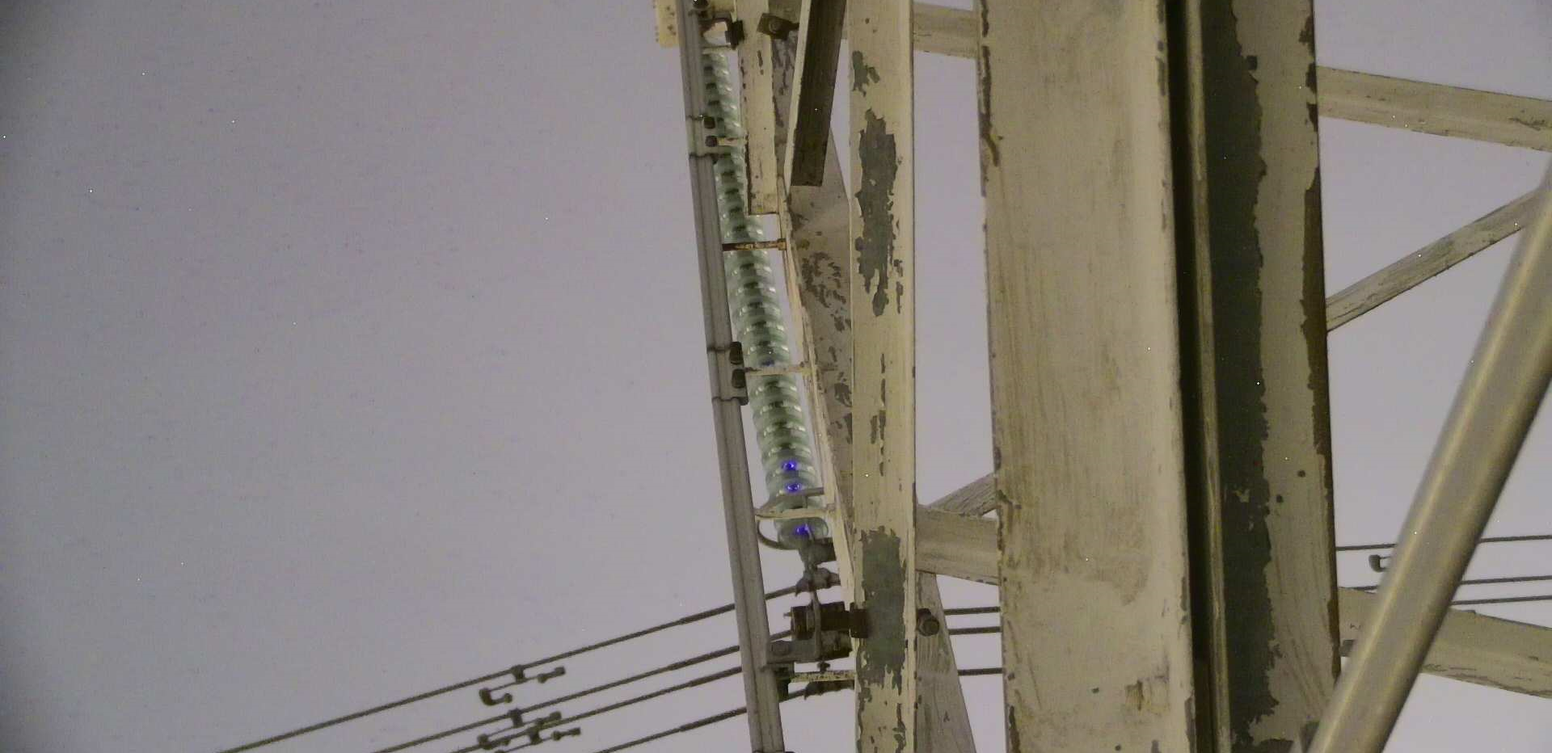绝缘子污闪: (795, 524, 813, 536), (785, 481, 801, 493), (781, 459, 796, 471)
